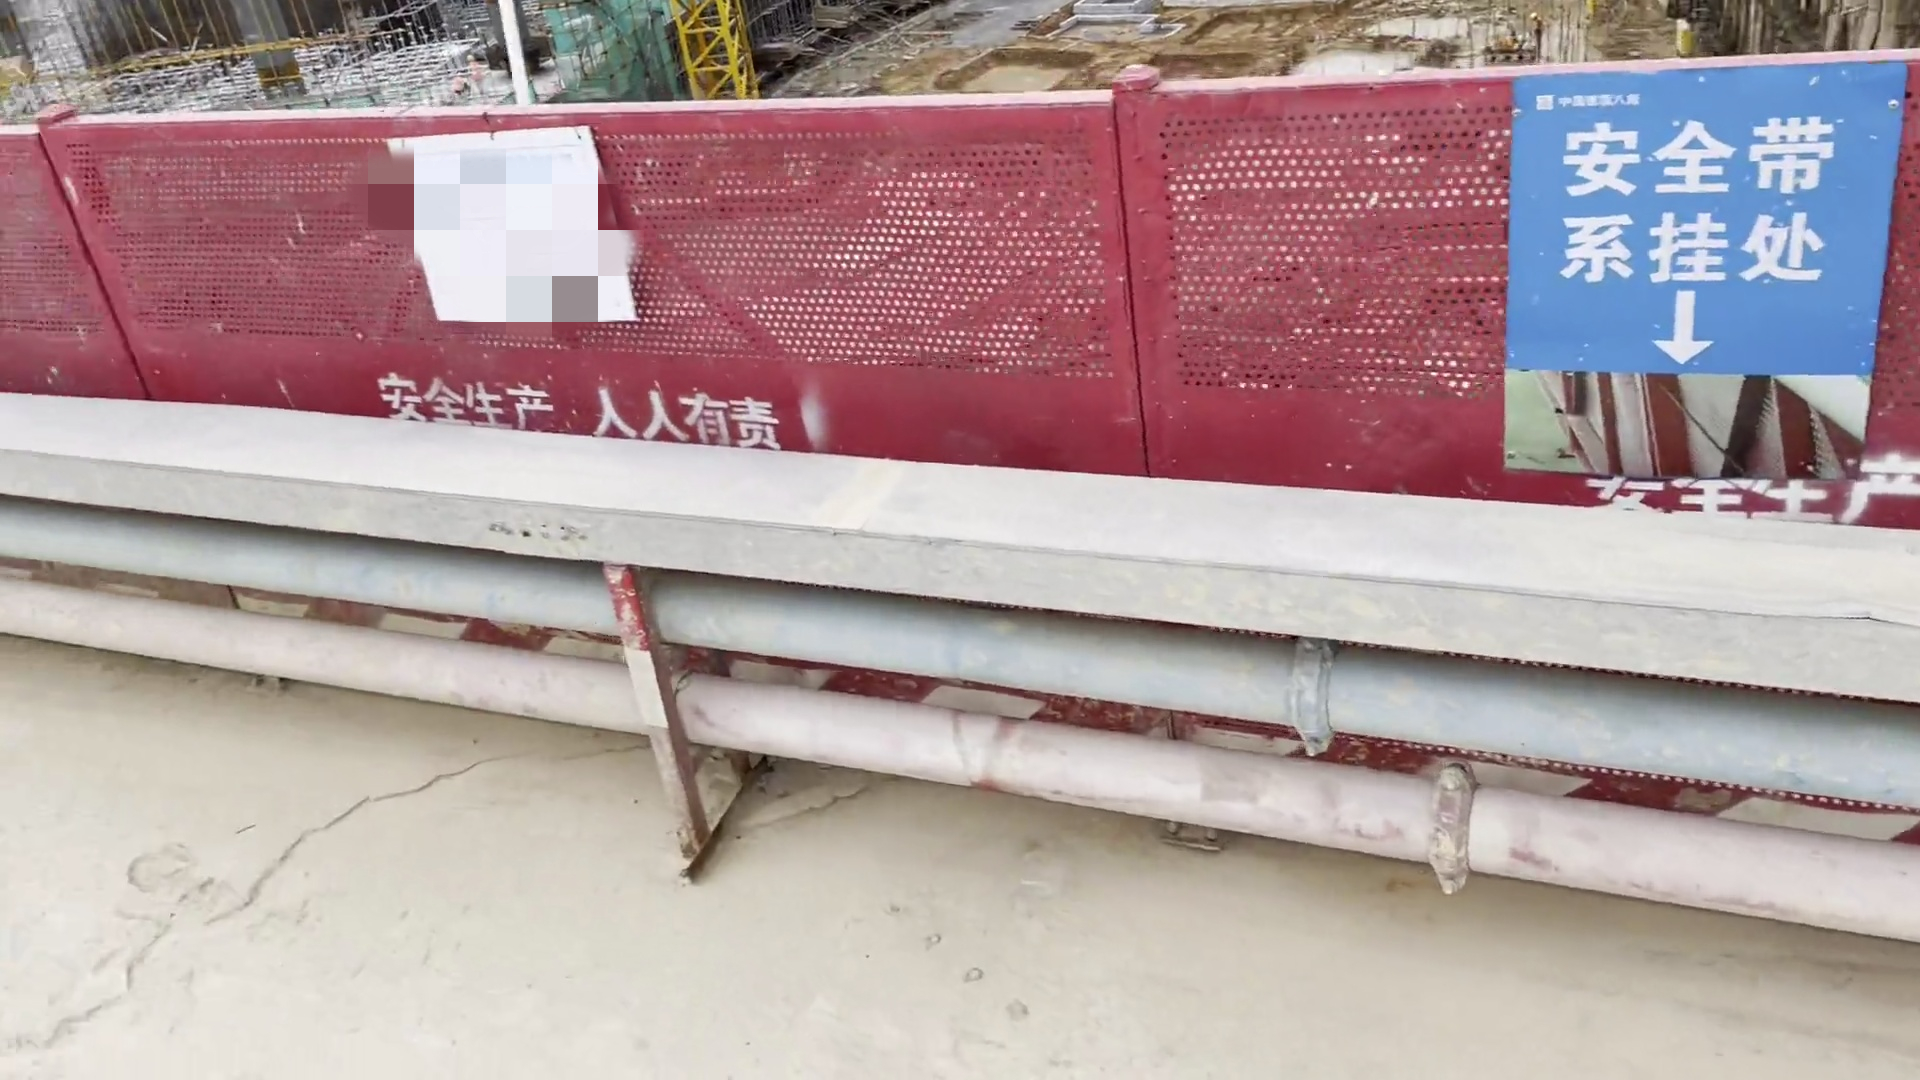brick: (1071, 1, 1163, 26)
fence: (3, 36, 1920, 562)
slogan: (1462, 50, 1903, 531), (384, 104, 657, 338)
